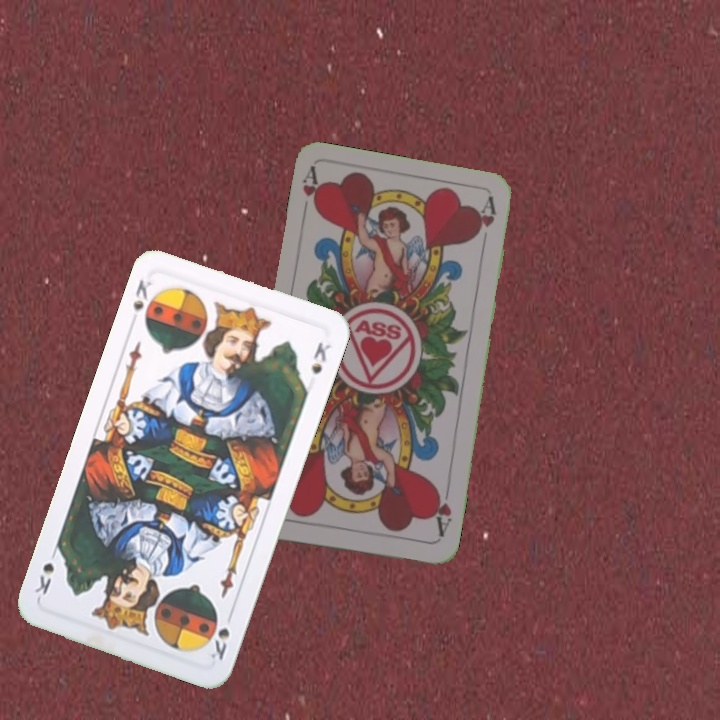HA: (297, 165, 326, 224), (428, 483, 454, 542)
SK: (206, 607, 236, 663), (128, 275, 155, 313)
